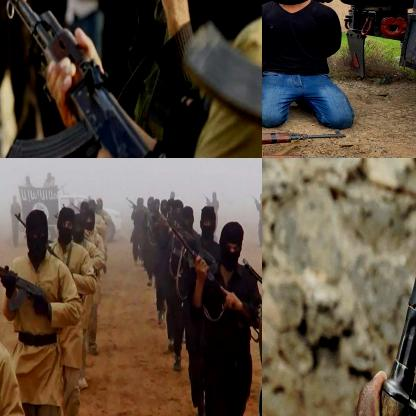rifle: (0, 0, 166, 157), (370, 158, 415, 415), (171, 224, 260, 342), (0, 255, 52, 321), (262, 128, 345, 157)
